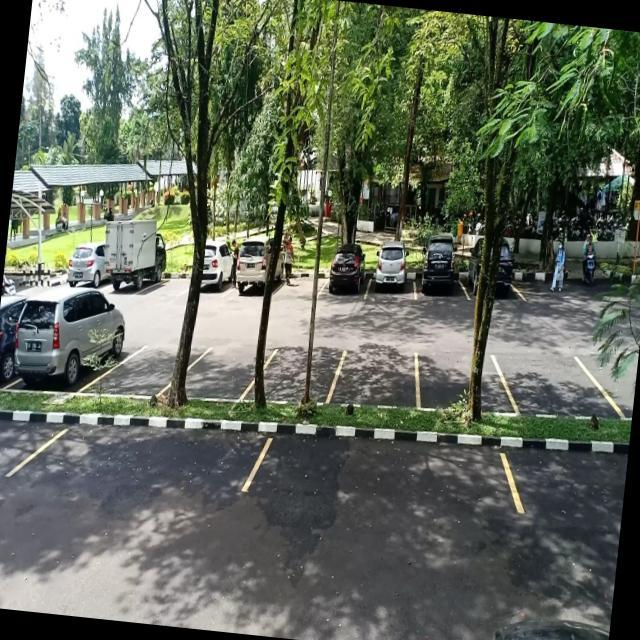empty: (250, 427, 527, 528), (29, 416, 262, 508), (412, 339, 510, 430), (502, 342, 608, 425), (328, 338, 424, 423), (248, 339, 342, 418), (100, 327, 190, 405), (178, 340, 258, 416)
occupied: (7, 291, 127, 397), (318, 248, 372, 302), (366, 248, 418, 304), (414, 251, 464, 304)
